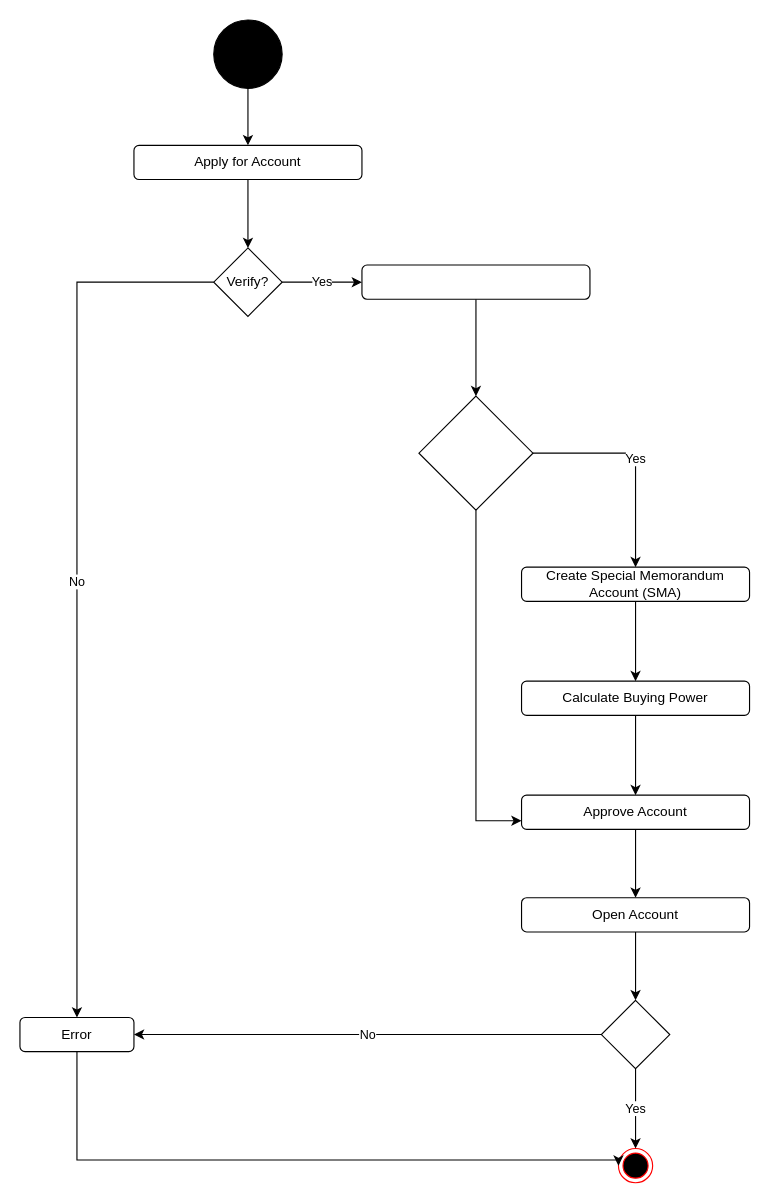
This 770x1203 diagram has some shape labels left out. Here are the shapes that lost their labels. From the top down, the centre of each, then its label:
the point at 475,281: Create Brokerage Account
the point at 475,452: Meets Margin Reqs?
the point at 635,1034: Valid?
